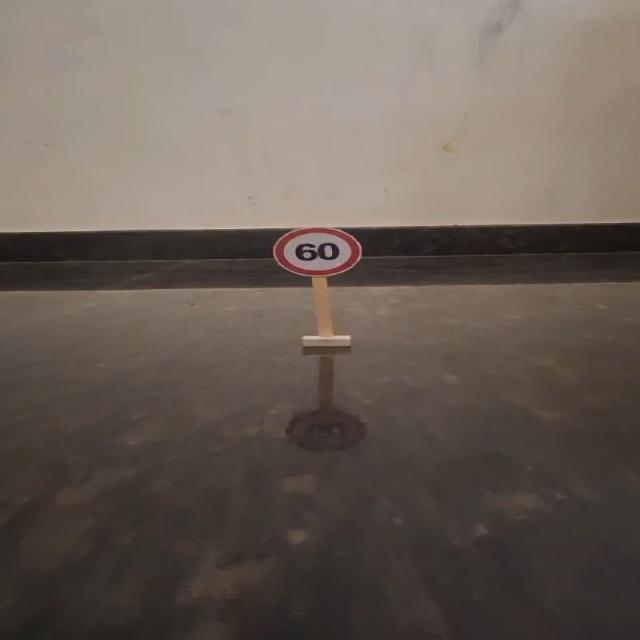Speed60: (270, 224, 364, 278)
